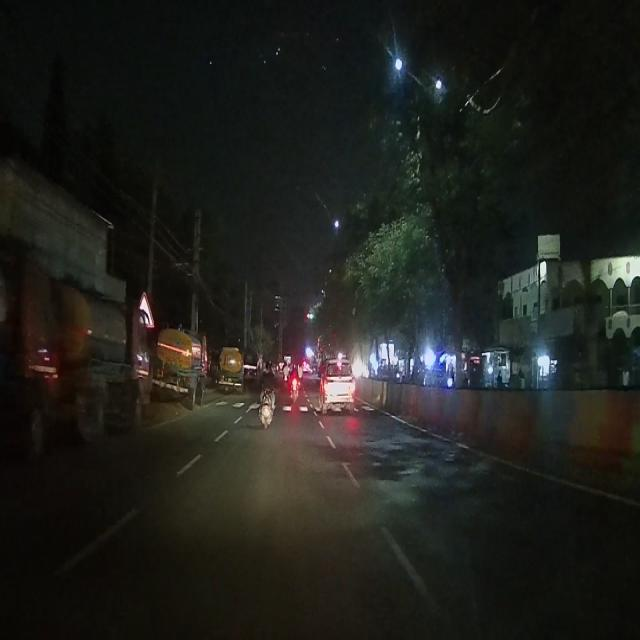left-hand-curve: (138, 290, 155, 328)
